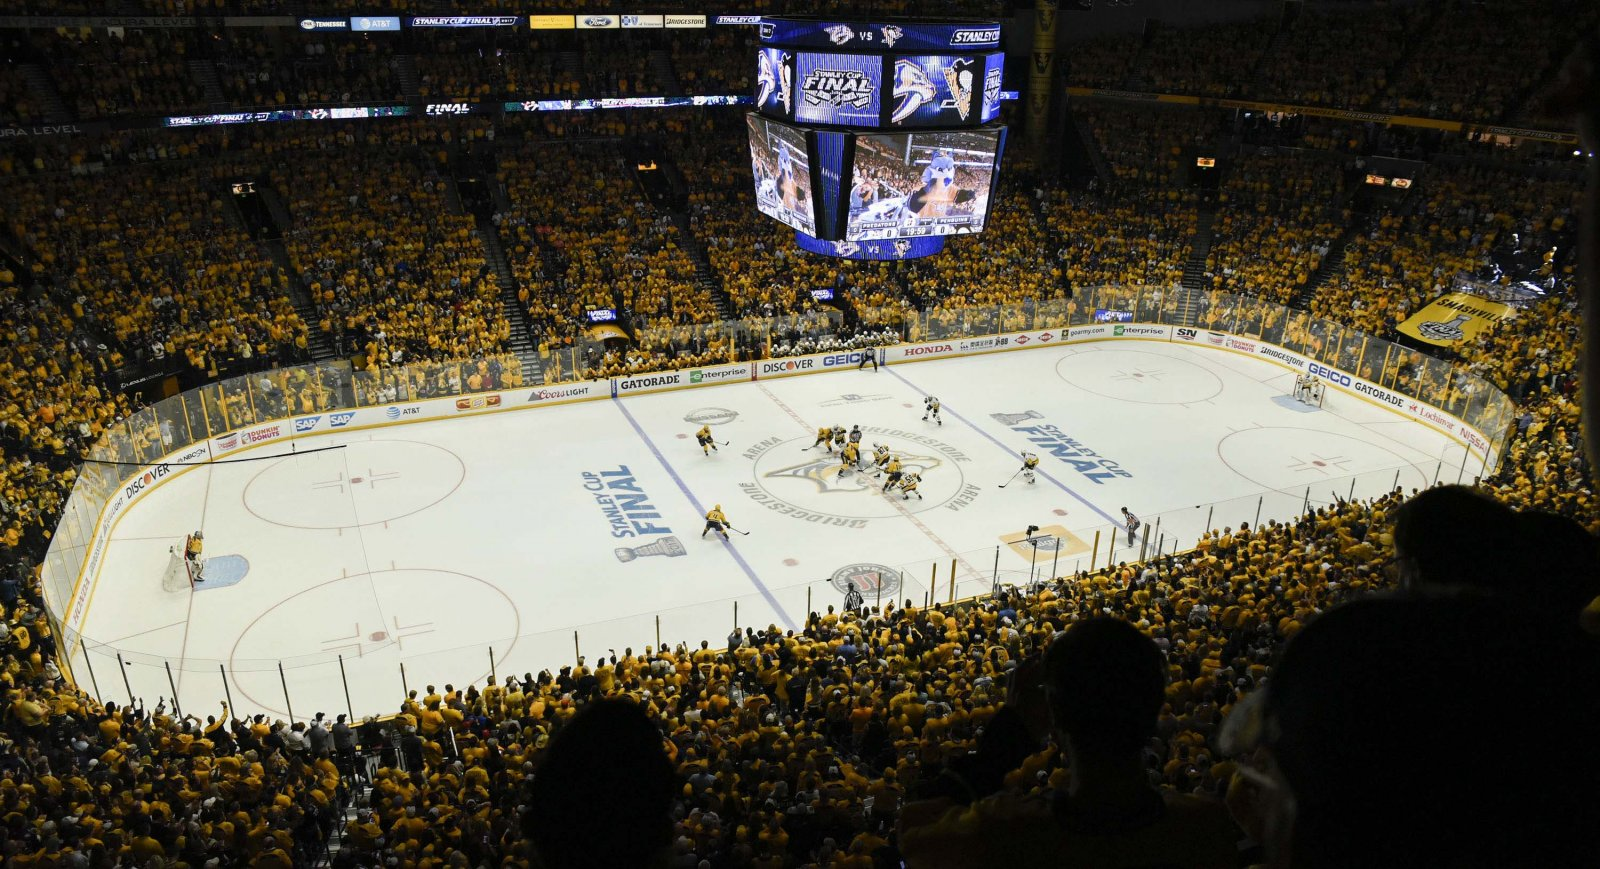Geico: (823, 347, 868, 373)
